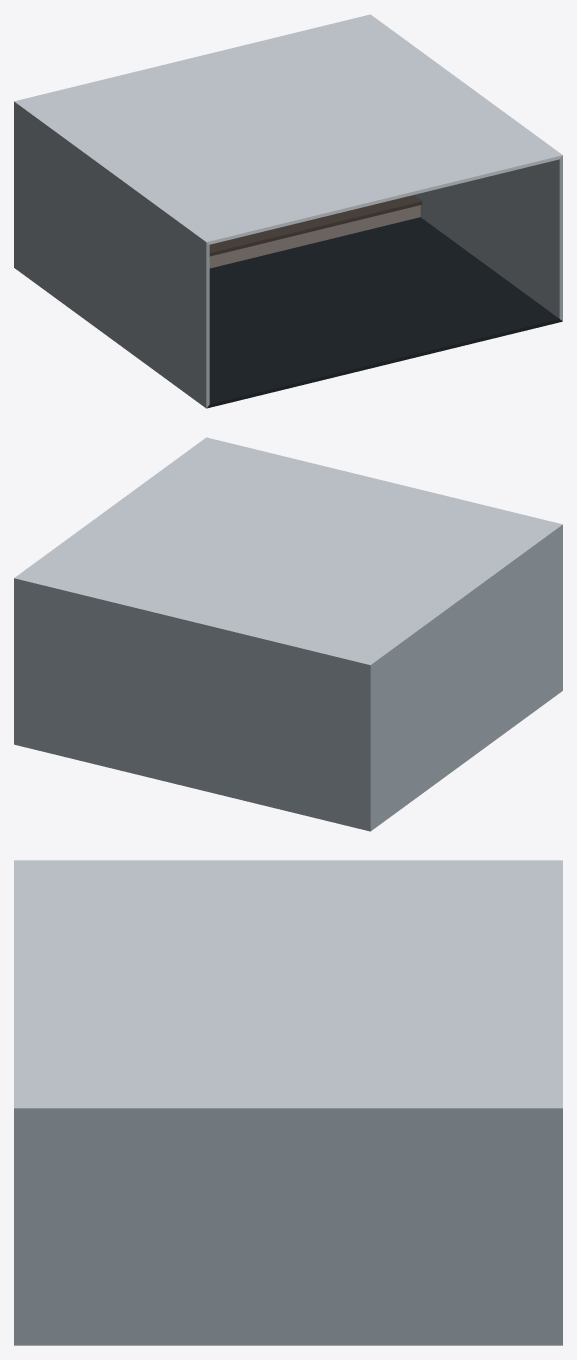
Rendered from BingoRoom.fbx.
3 renders of one model, top to bottom at view 1: azimuth 30°, elevation 25°; view 2: azimuth 150°, elevation 25°; view 3: azimuth 270°, elevation 25°, orthographic. The views are drawn at different scales.
Visible parts, largest first — view 1: BingoRoom; view 2: BingoRoom; view 3: BingoRoom.
Part boxes in pixels (x1,y1,x2,y2): BingoRoom: (14,14,562,408); BingoRoom: (14,437,562,831); BingoRoom: (14,860,562,1345).
Size of the model in its own units: 1121 by 500 by 1048.
Materials: 1 (1 with a texture image).
